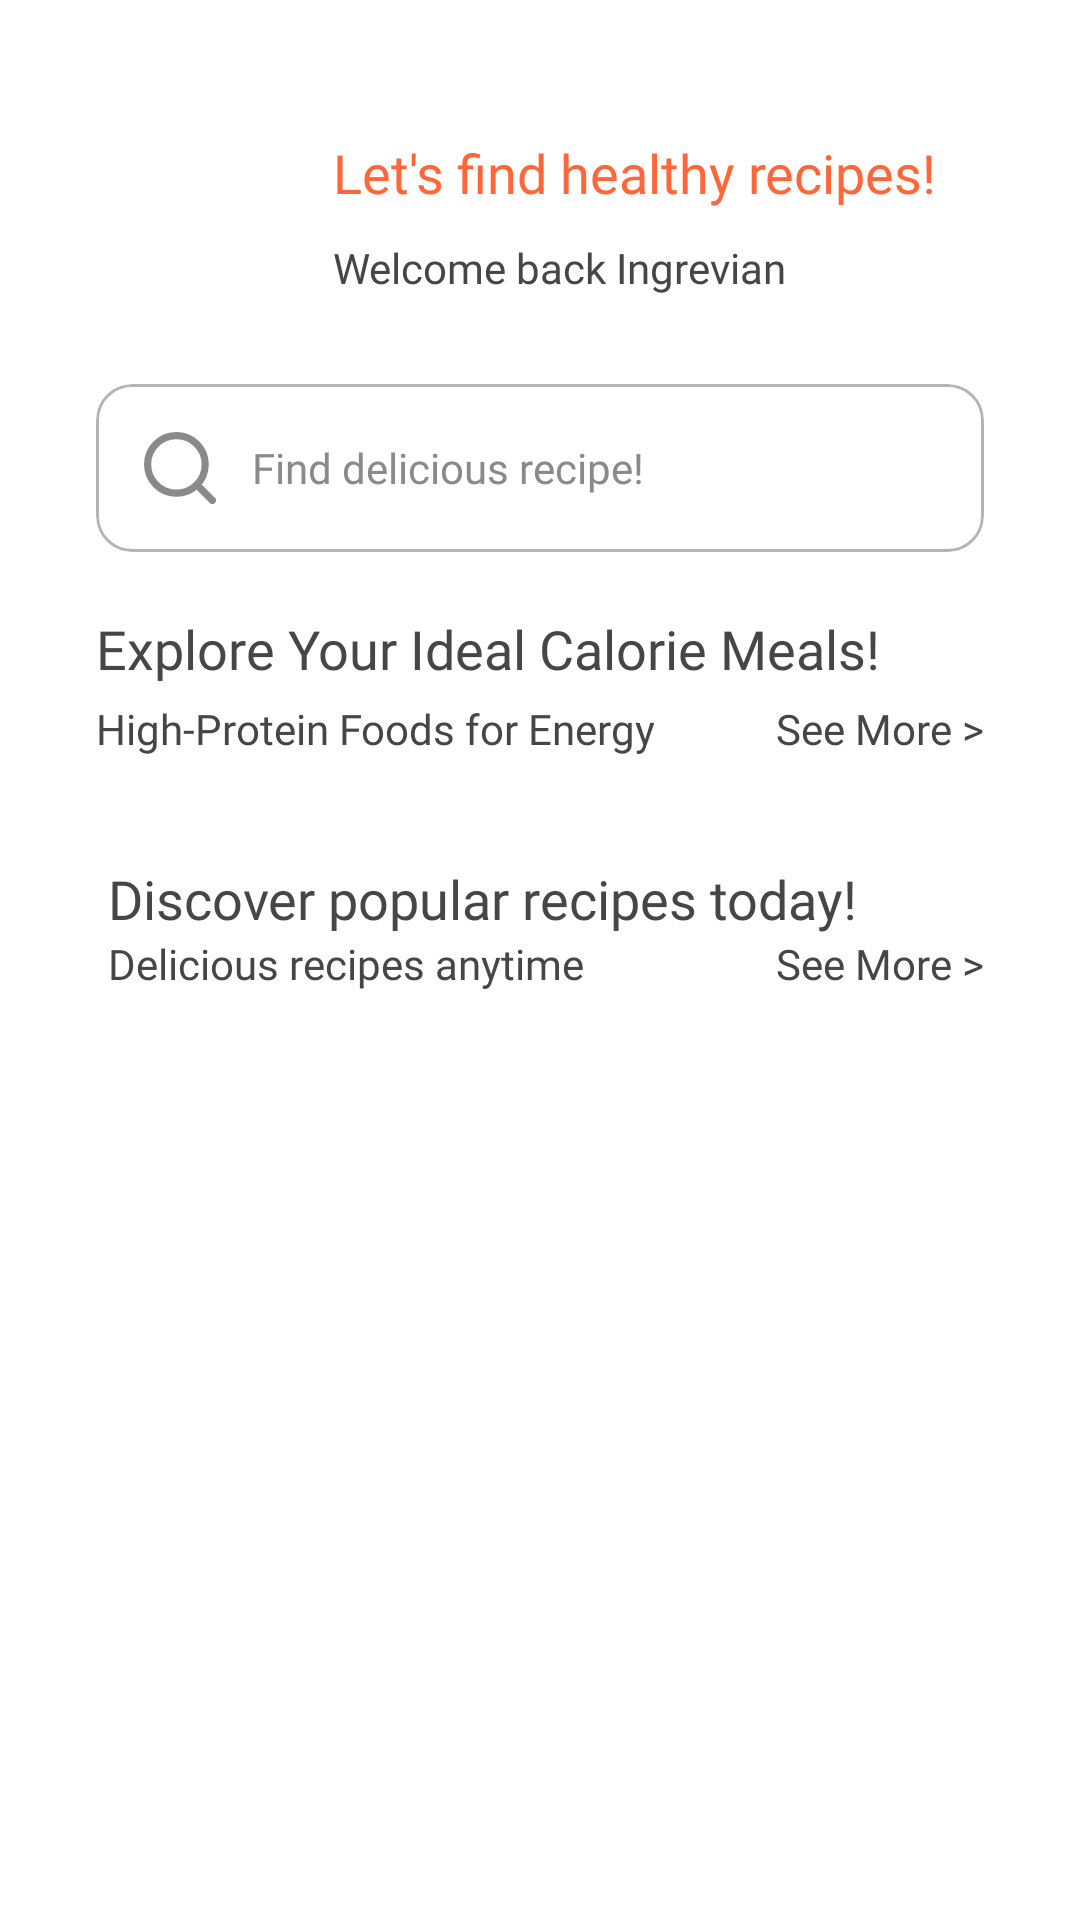

Named icons in this screenshot (1080*1920) and their centers, (x,y):
search: (180,468)
